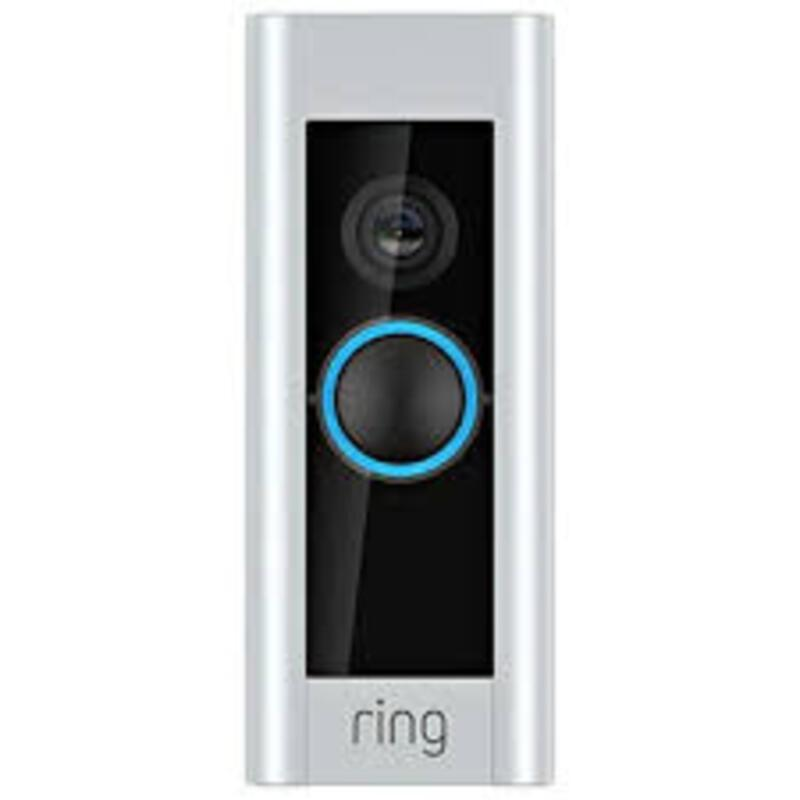doorbell: (243, 13, 548, 780)
